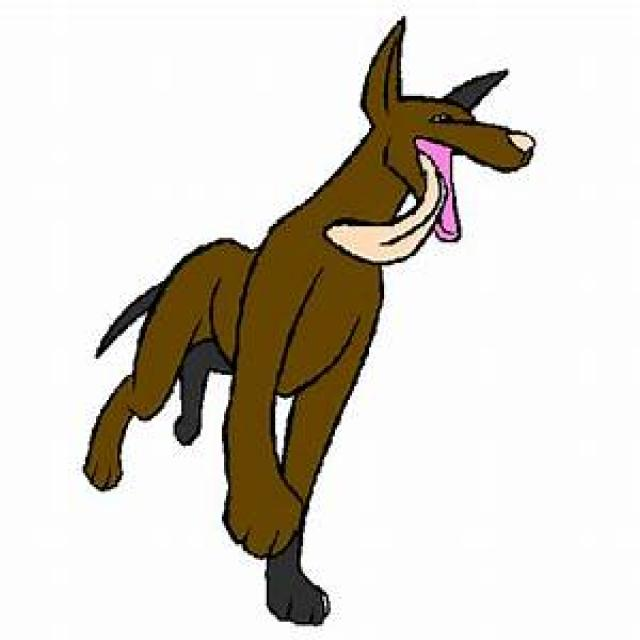dog: (83, 18, 538, 626)
